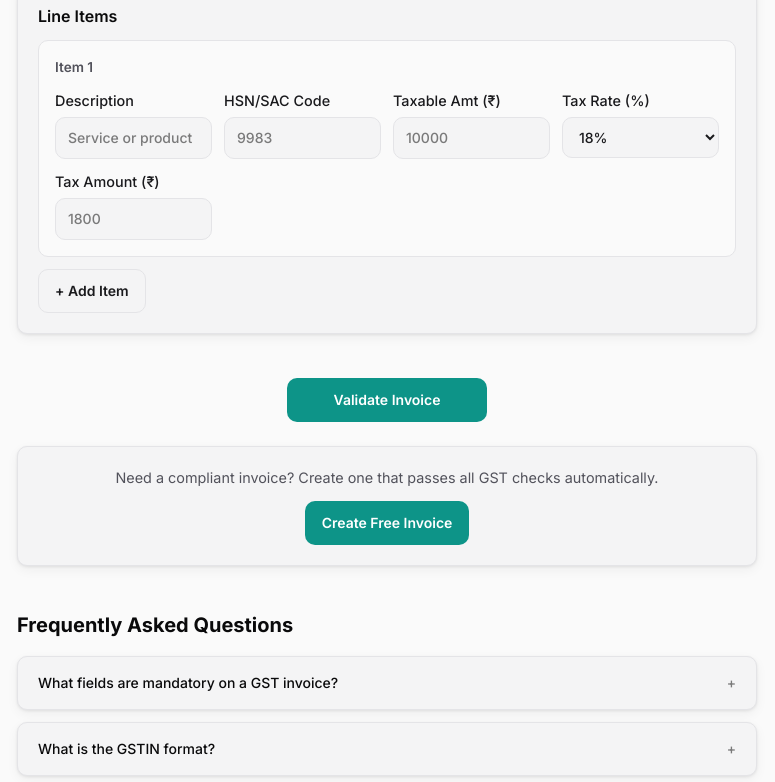
Test: InvoiceValidatorPage › shows reset button after validation
(page scrolled)
Click the button "Validate Invoice" at (387, 400), box [287,378,487,422]
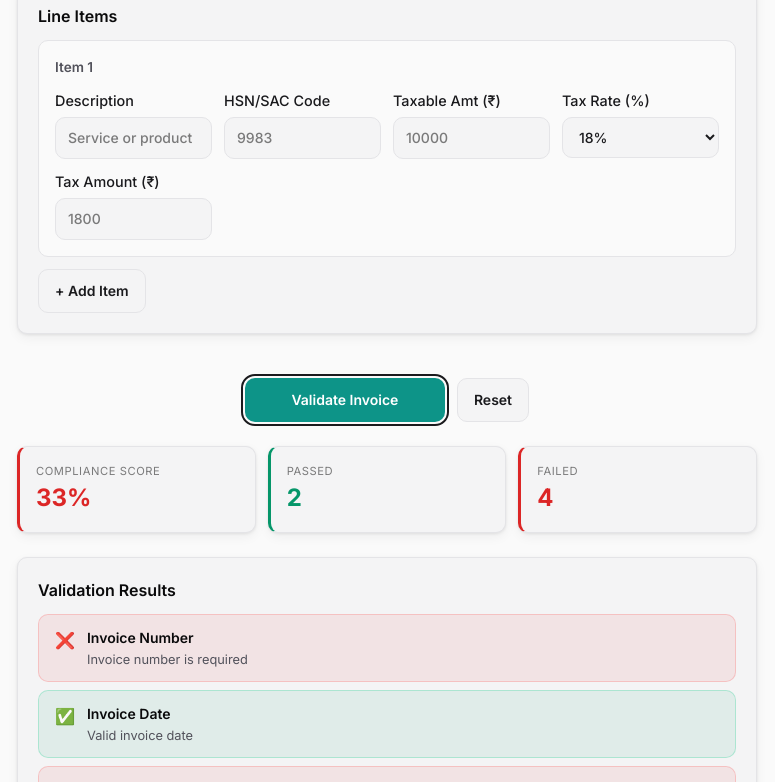
Expected: the button "Reset" is shown, [457,378,529,422]
